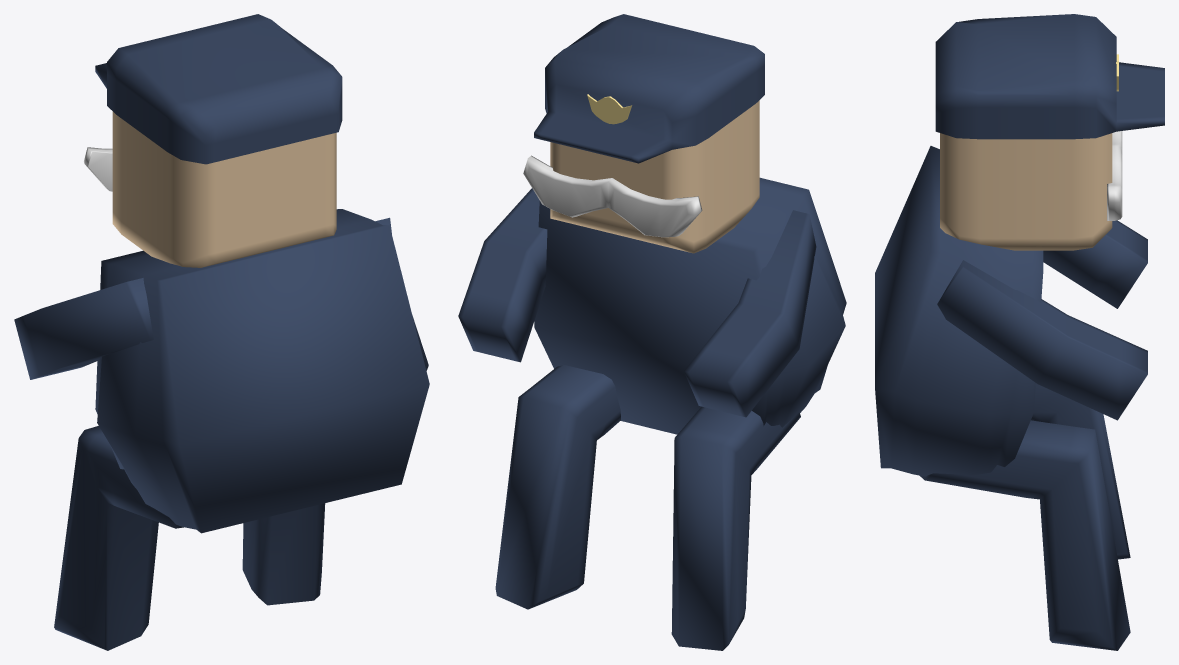
Rendered from Copper.fbx.
3 views of the same model, side by side, from view 1: azimuth 30°, elevation 25°; view 2: azimuth 150°, elevation 25°; view 3: azimuth 270°, elevation 25° (orthographic). The views are drawn at different scales.
Parts seen in each view (by area): view 1: Copper Torso, Hat, Head, Leg1.001, Arm2, Leg1, Mustache; view 2: Copper Torso, Hat, Leg1, Leg1.001, Head, Arm2, Arm1, Mustache, Emblem; view 3: Copper Torso, Hat, Leg1, Head, Arm1, Arm2, Leg1.001, Mustache.
Part boxes in pixels (box(x1,y1,x2,y2)): Copper Torso: box(95, 209, 429, 533); Hat: box(95, 14, 342, 164); Head: box(112, 111, 336, 267); Leg1.001: box(54, 426, 183, 650); Arm2: box(14, 278, 153, 379); Leg1: box(242, 503, 325, 605); Mustache: box(84, 147, 112, 191); Copper Torso: box(534, 177, 846, 434); Hat: box(534, 14, 764, 163); Leg1: box(495, 365, 620, 609); Leg1.001: box(671, 406, 800, 650); Head: box(550, 100, 759, 253); Arm2: box(684, 210, 816, 417); Arm1: box(458, 188, 547, 362); Mustache: box(523, 155, 702, 237); Emblem: box(587, 94, 632, 124); Copper Torso: box(875, 146, 1043, 476); Hat: box(935, 14, 1164, 139); Leg1: box(920, 420, 1130, 650); Head: box(940, 133, 1112, 250); Arm1: box(937, 260, 1147, 420); Arm2: box(1043, 220, 1147, 308); Leg1.001: box(1031, 383, 1130, 559); Mustache: box(1107, 131, 1122, 220).
Size of the model in its own units: 243 by 201 by 419.
